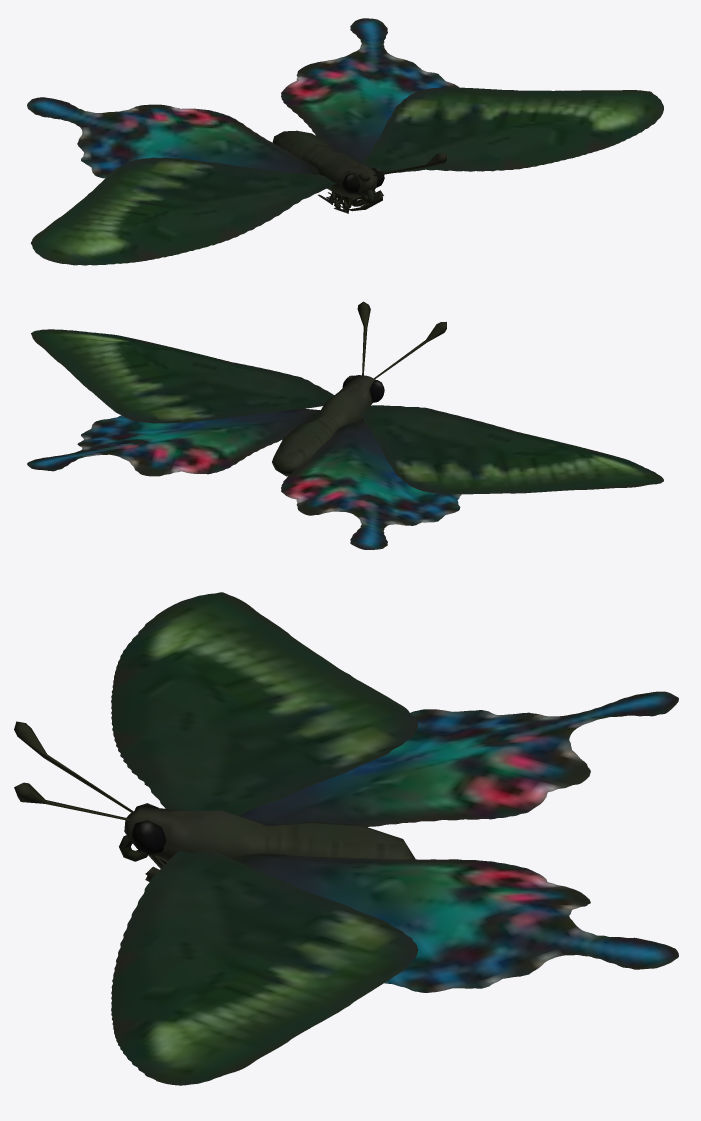
File: peacock-butterfly.glb
The picture shows the model from 3 angles, top to bottom: view 1: azimuth 30°, elevation 25°; view 2: azimuth 150°, elevation 25°; view 3: azimuth 270°, elevation 25°; orthographic projection. The views are drawn at different scales.
Size of the model in its own units: 6.48 by 0.8734 by 3.56.
1 material, 1 textured.
